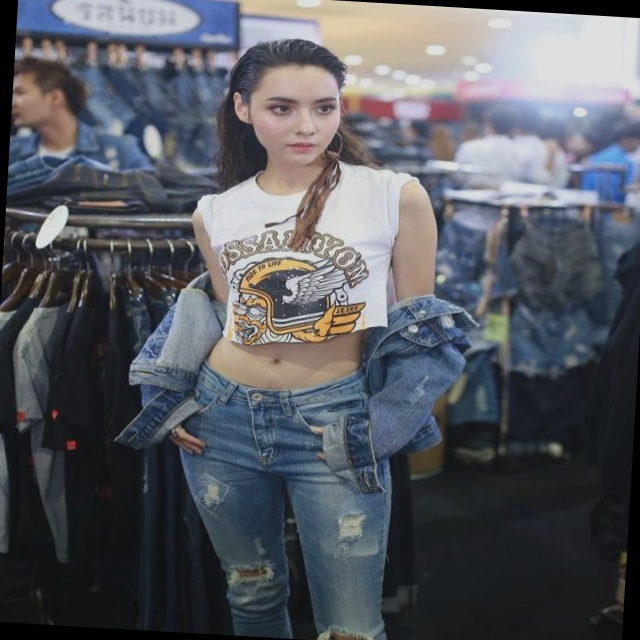Crop_Top: (193, 156, 400, 401)
Sleeveless: (390, 170, 442, 230), (189, 194, 215, 238)
ripped_pants: (166, 358, 405, 640)
